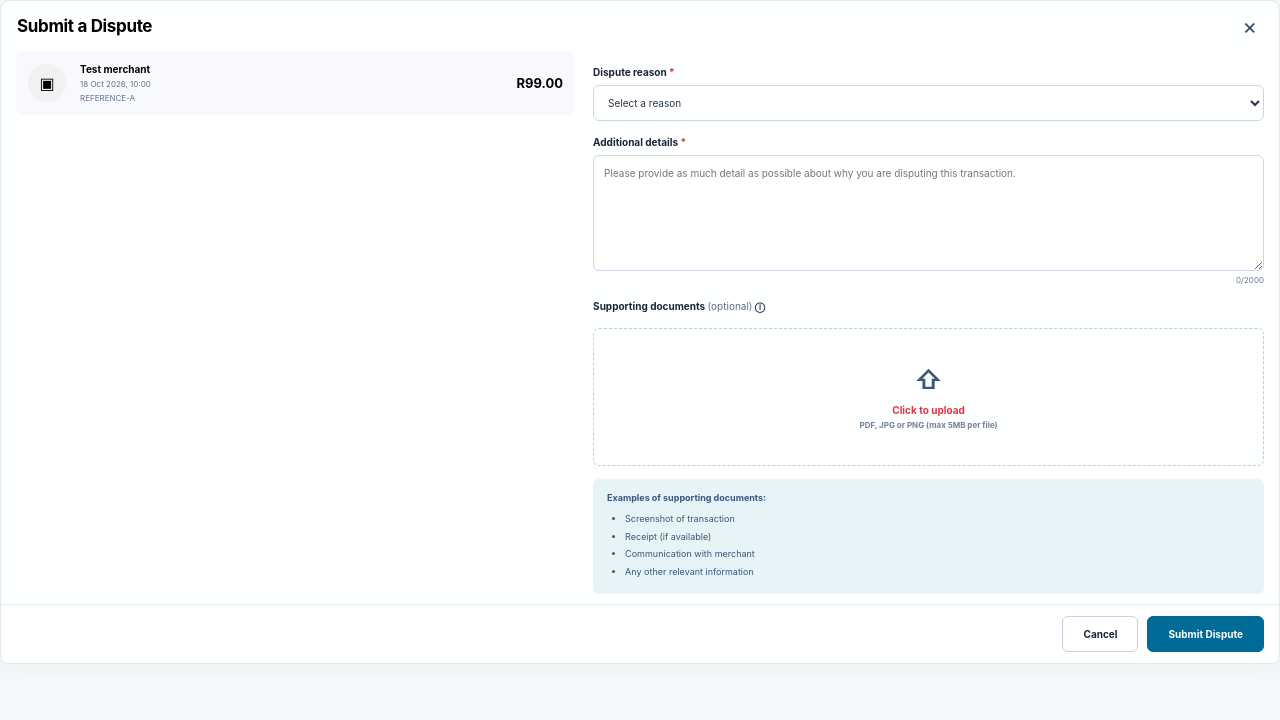
Test: Dispute form submission › shows a visible validation message instead of silently ignoring an empty form
Click the button "Submit Dispute" at (1206, 634), box [1148,616,1264,652]
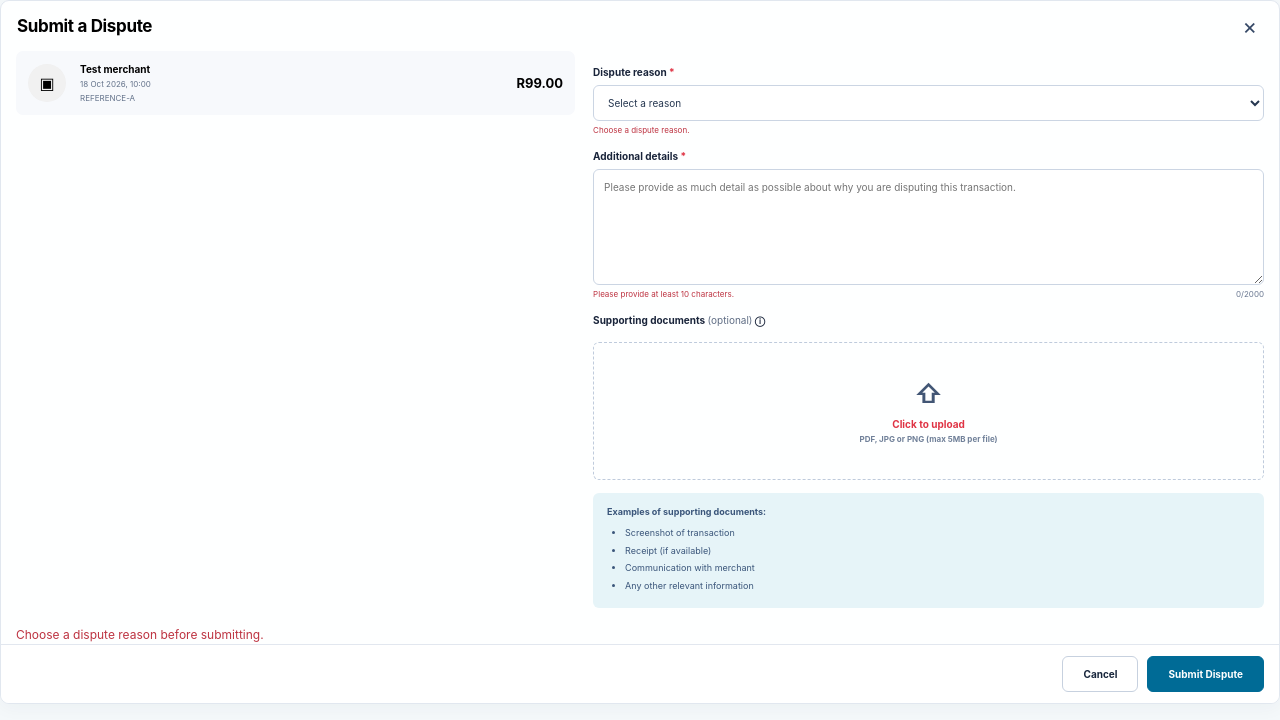
Result: the message with class "submit-error" shows "Choose a dispute reason" at [16,627,264,642]
